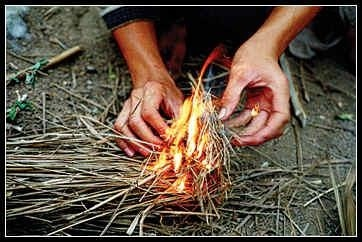fire: (147, 79, 223, 190)
